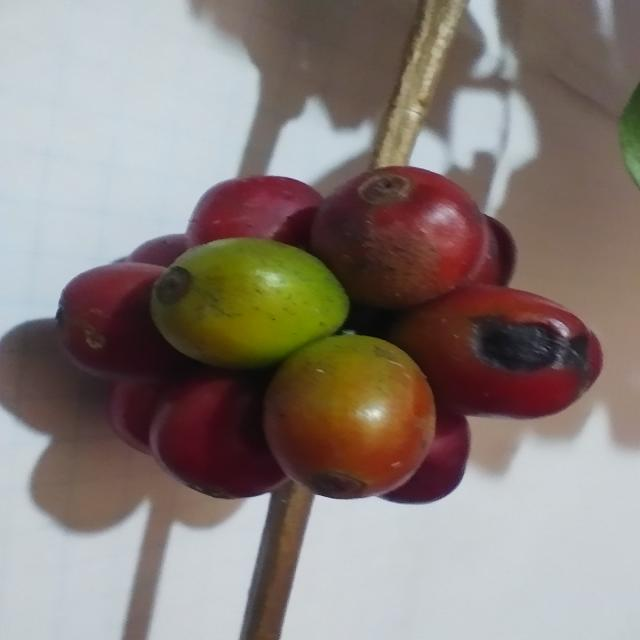Infectado: (385, 285, 604, 421)
Sano: (263, 334, 437, 503), (151, 239, 352, 372), (311, 168, 492, 310)
